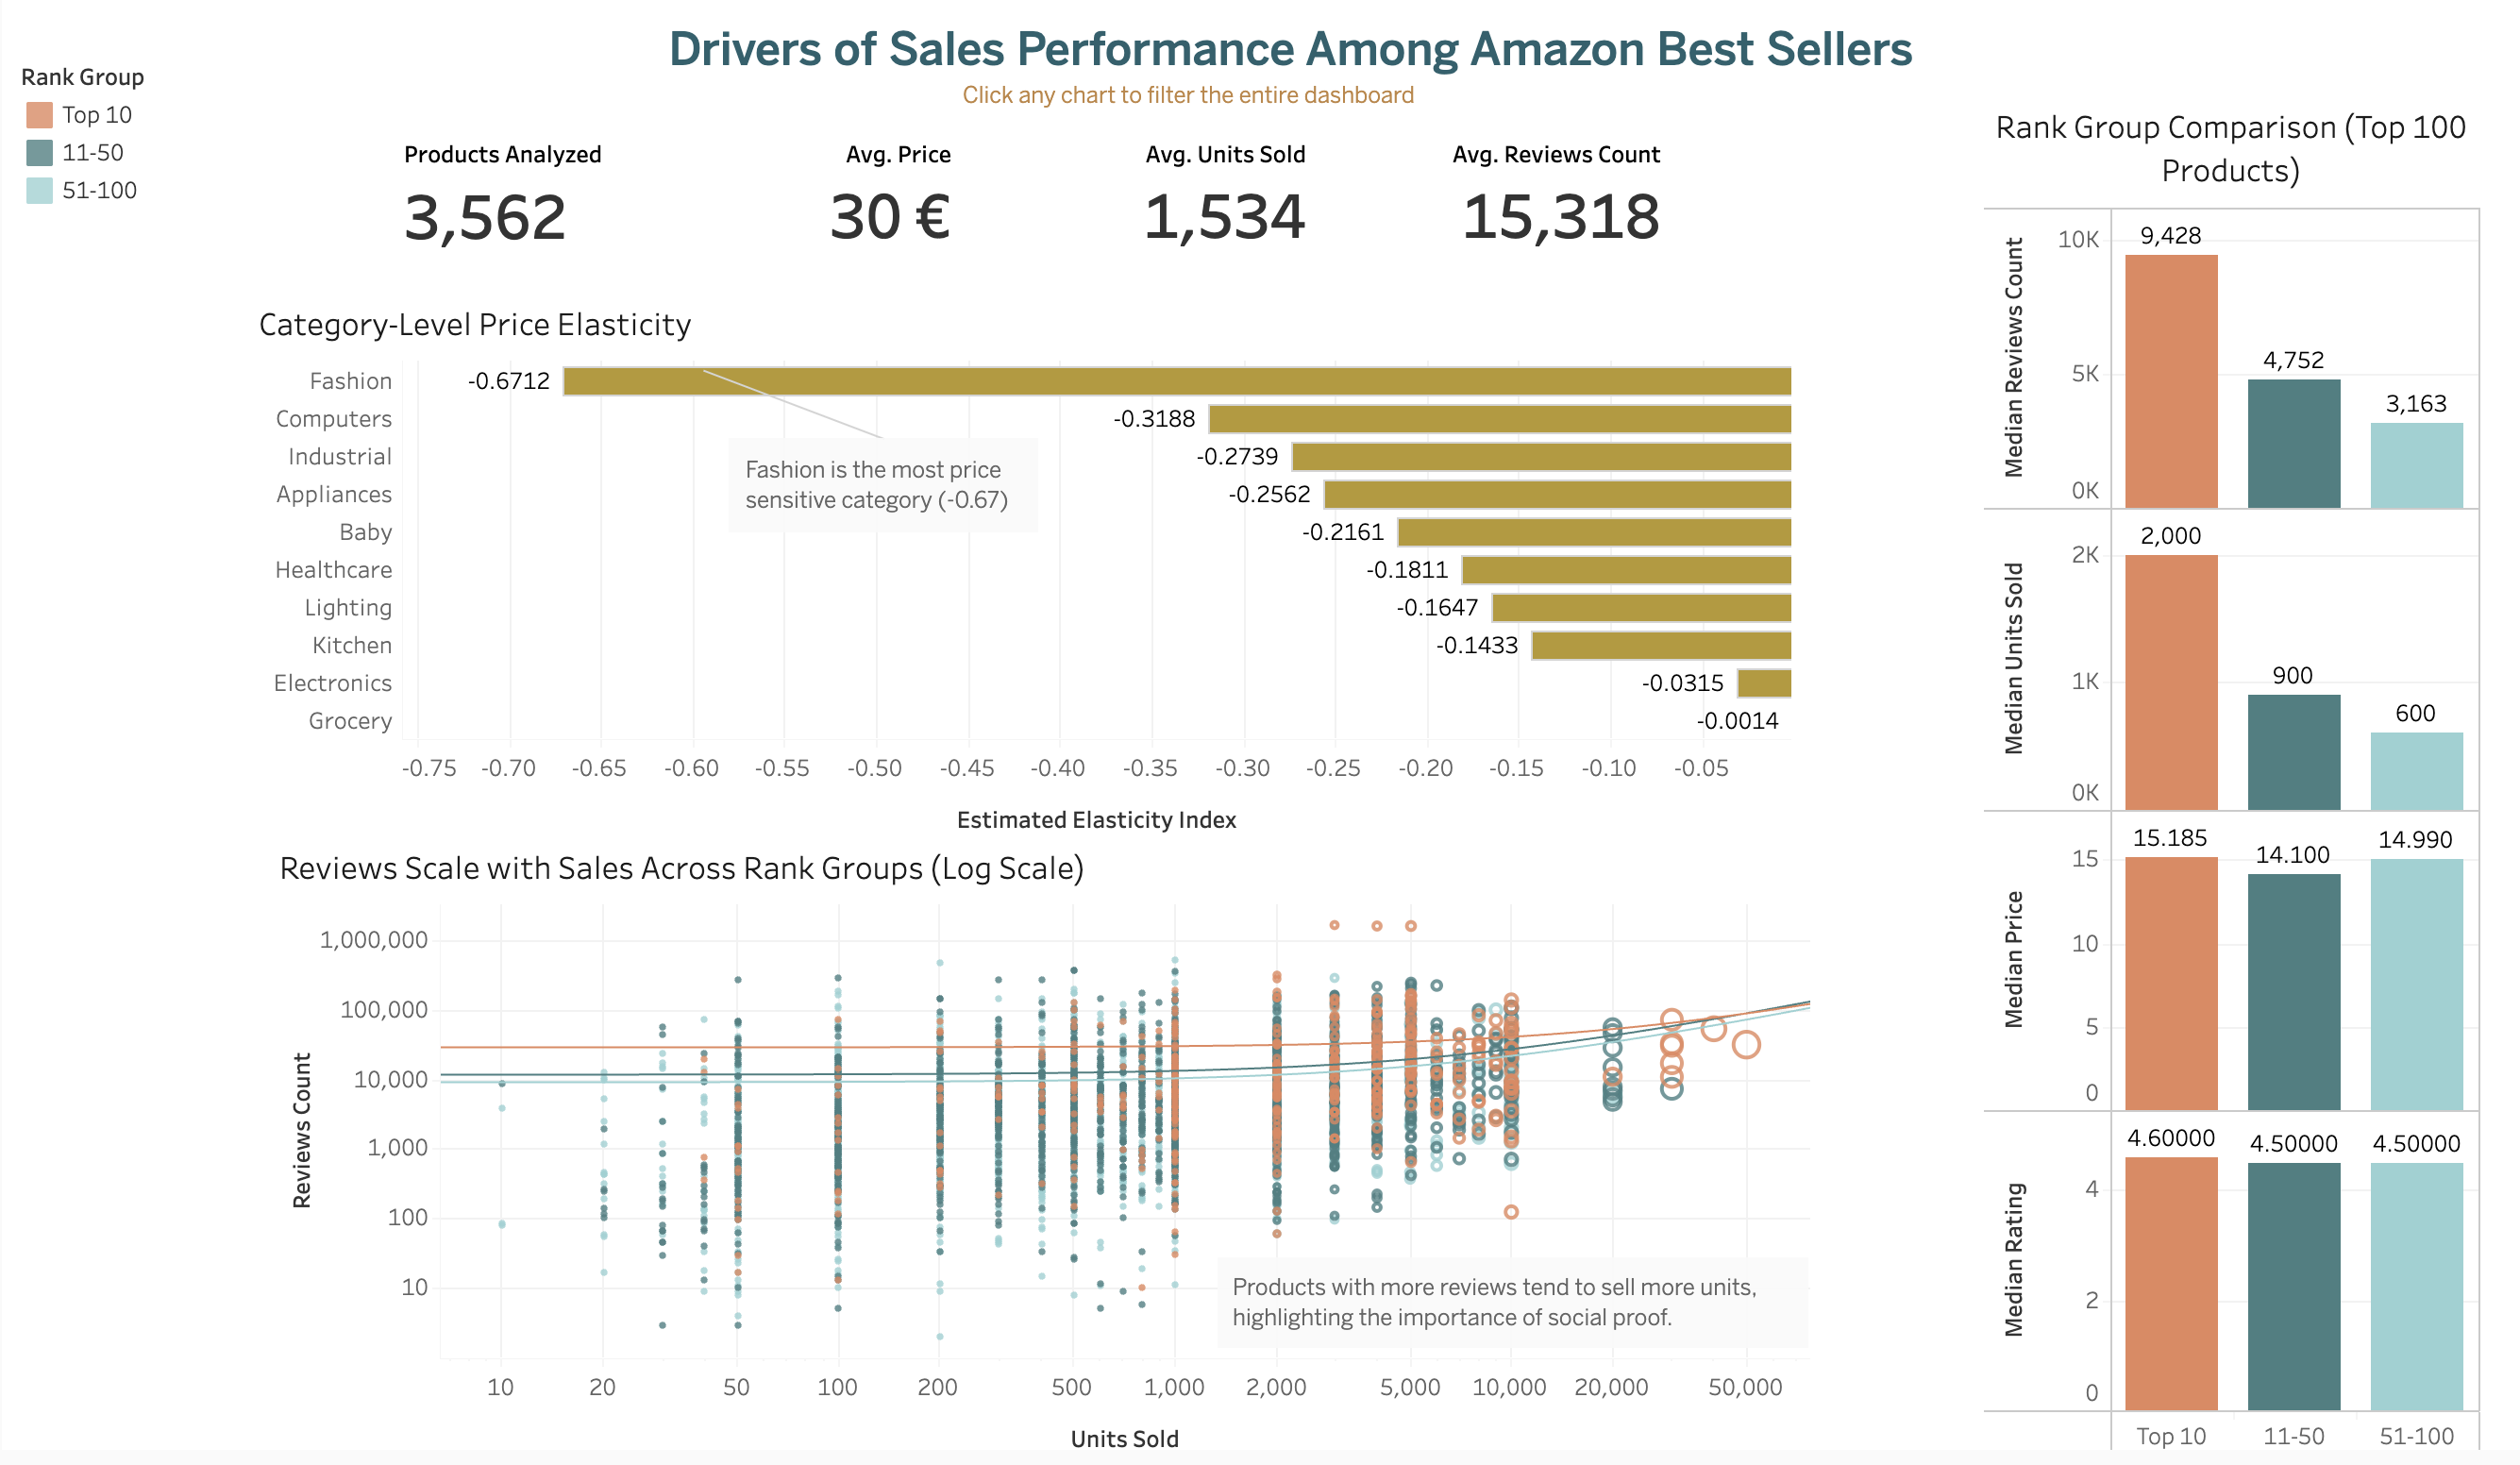

The page's visual inventory and layout, read from the dashboard file:
{"tool":"tableau","page":{"name":"Dashboard 1","canvas":[1366,768],"ordinal":0},"visuals":[{"type":"title","box":[8,8,1350,37]},{"type":"legend","title":"Reviews Scale with Sales Across Rank Groups (Log Scale)","param":"[federated.1701tsy1jhsk3z1gz4ds00sgnimz].[none:rank_group:nk]","box":[10,32,135,81]},{"type":"text","box":[509,40,266,21]},{"type":"worksheet","title":"Rank Group Comparison (Top 100 Products)","mark":"Automatic","rows":["reviews_count","units_sold","price","rating"],"cols":["rank_group"],"box":[1050,49,263,721]},{"type":"worksheet","title":"KPIs","mark":"Text","rows":["Calculation_5126655154069507"],"box":[207,71,696,85]},{"type":"worksheet","title":"Category-Level Price Elasticity","mark":"Bar","rows":["Category"],"cols":["Value"],"box":[132,153,816,296]}]}

Visuals, with their boxes on the page's 1366x768 design canvas (x1, y1, x2, y2). These are canvas units, not pixel positions in the 2520x1465 screenshot, which may show the page scaled, cropped or inside an application window:
title: left=8, top=8, right=1358, bottom=45
"Reviews Scale with Sales Across Rank Groups (Log Scale)" legend: left=10, top=32, right=145, bottom=113
text: left=509, top=40, right=775, bottom=61
"Rank Group Comparison (Top 100 Products)" worksheet: left=1050, top=49, right=1313, bottom=770
"KPIs" worksheet (Text marks): left=207, top=71, right=903, bottom=156
"Category-Level Price Elasticity" worksheet (Bar marks): left=132, top=153, right=948, bottom=449
